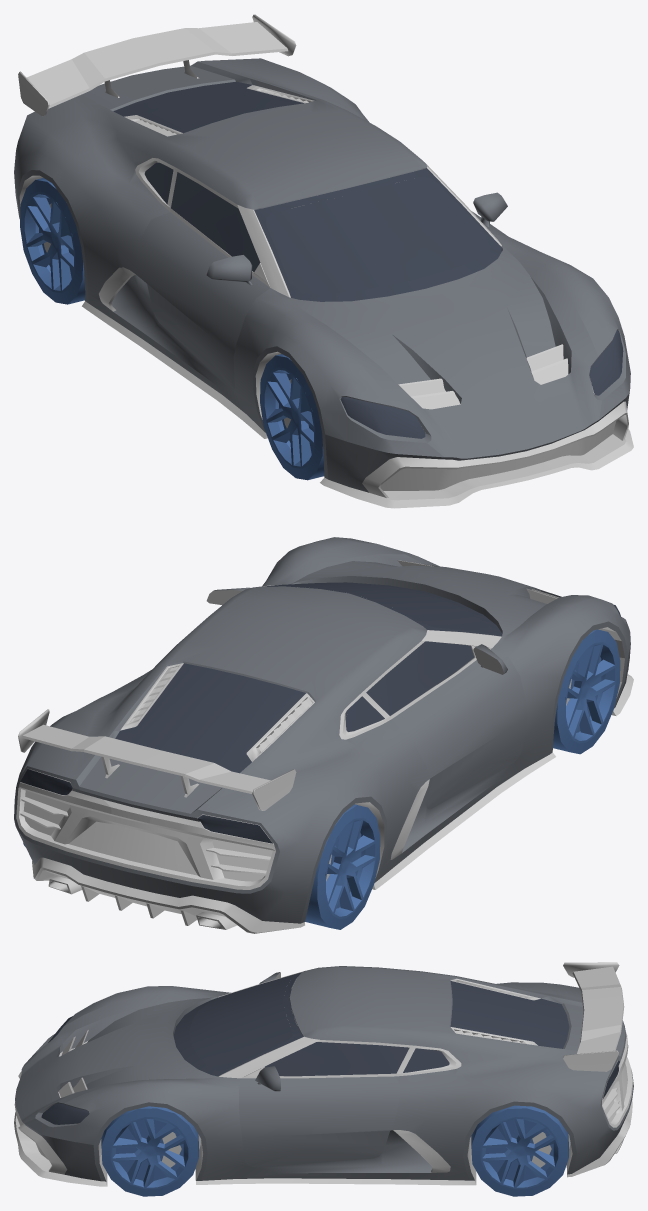
Rendered from RealisticCar06_HD_LOD3.FBX.
The picture shows the model from 3 angles, top to bottom: view 1: azimuth 30°, elevation 25°; view 2: azimuth 150°, elevation 25°; view 3: azimuth 270°, elevation 25°; orthographic projection. The views are drawn at different scales.
Parts seen in each view (by area): view 1: Car06_Body_LOD3, Car06_Glass_LOD3, Car06_Door_Right_LOD3, Car06_Wheel_Rear_Right_LOD3, Car06_Wheel_Front_Right_LOD3, Car06_Door_Left_LOD3; view 2: Car06_Body_LOD3, Car06_Glass_LOD3, Car06_Door_Right_LOD3, Car06_Wheel_Rear_Right_LOD3, Car06_Wheel_Front_Right_LOD3; view 3: Car06_Body_LOD3, Car06_Door_Left_LOD3, Car06_Glass_LOD3, Car06_Wheel_Rear_Left_LOD3, Car06_Wheel_Front_Left_LOD3.
Part boxes in pixels (x1,y1,x2,y2): Car06_Body_LOD3: (14,14,633,508); Car06_Glass_LOD3: (113,81,623,438); Car06_Door_Right_LOD3: (135,172,270,389); Car06_Wheel_Rear_Right_LOD3: (20,178,85,304); Car06_Wheel_Front_Right_LOD3: (260,354,324,480); Car06_Door_Left_LOD3: (472,192,507,236); Car06_Body_LOD3: (14,537,633,933); Car06_Glass_LOD3: (20,582,621,843); Car06_Door_Right_LOD3: (366,641,527,809); Car06_Wheel_Rear_Right_LOD3: (305,804,380,929); Car06_Wheel_Front_Right_LOD3: (553,629,620,754); Car06_Body_LOD3: (14,962,633,1186); Car06_Door_Left_LOD3: (239,1042,409,1167); Car06_Glass_LOD3: (41,972,620,1124); Car06_Wheel_Rear_Left_LOD3: (471,1105,568,1196); Car06_Wheel_Front_Left_LOD3: (101,1106,198,1196).
Bounding box in the file's own units: 2 × 4.59 × 1.22.
